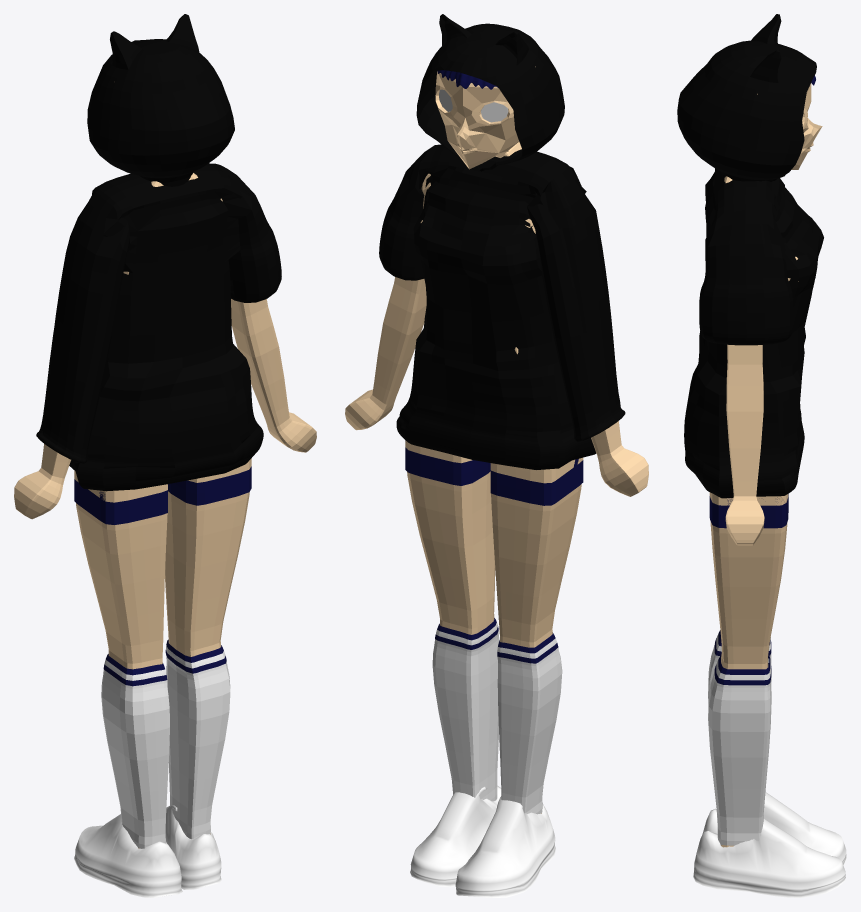
The model's file is Neko2.fbx.
The picture shows the model from 3 angles, left to right: view 1: azimuth 30°, elevation 25°; view 2: azimuth 150°, elevation 25°; view 3: azimuth 270°, elevation 25°; orthographic projection.
Visible parts, largest first — view 1: HOODIE, BODY, SOCK, HOOD, shoes, pants, shoes.001; view 2: HOODIE, BODY, SOCK, HOOD, shoes, shoes.001, HEAD, pants, EYE; view 3: HOODIE, BODY, HOOD, SOCK, shoes.001, shoes, pants, HEAD.
Part boxes in pixels (<box>): HOODIE: <box>36,163,281,491</box>; BODY: <box>14,173,316,848</box>; SOCK: <box>101,639,230,848</box>; HOOD: <box>87,14,234,186</box>; shoes: <box>74,814,182,897</box>; pants: <box>74,466,251,524</box>; shoes.001: <box>165,805,221,889</box>; HOODIE: <box>379,144,625,469</box>; BODY: <box>345,142,648,813</box>; SOCK: <box>432,618,562,814</box>; HOOD: <box>416,14,564,171</box>; shoes: <box>455,796,555,897</box>; shoes.001: <box>410,785,501,887</box>; HEAD: <box>435,66,535,169</box>; pants: <box>405,447,583,505</box>; EYE: <box>439,89,507,122</box>; HOODIE: <box>684,168,823,498</box>; BODY: <box>709,176,798,847</box>; HOOD: <box>677,14,816,181</box>; SOCK: <box>708,630,771,845</box>; shoes.001: <box>693,818,845,897</box>; shoes: <box>702,792,846,865</box>; pants: <box>709,494,788,528</box>; HEAD: <box>757,83,822,169</box>.
Size of the model in its own units: 165 by 460 by 83.11.
